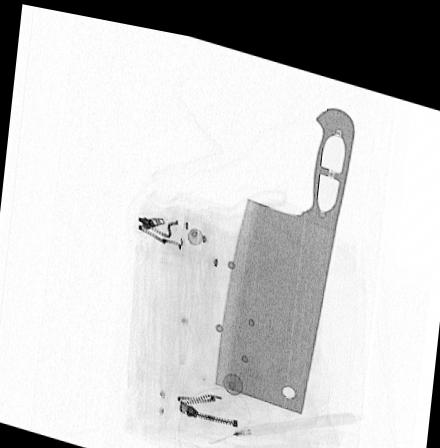Knife: (213, 93, 356, 403)
